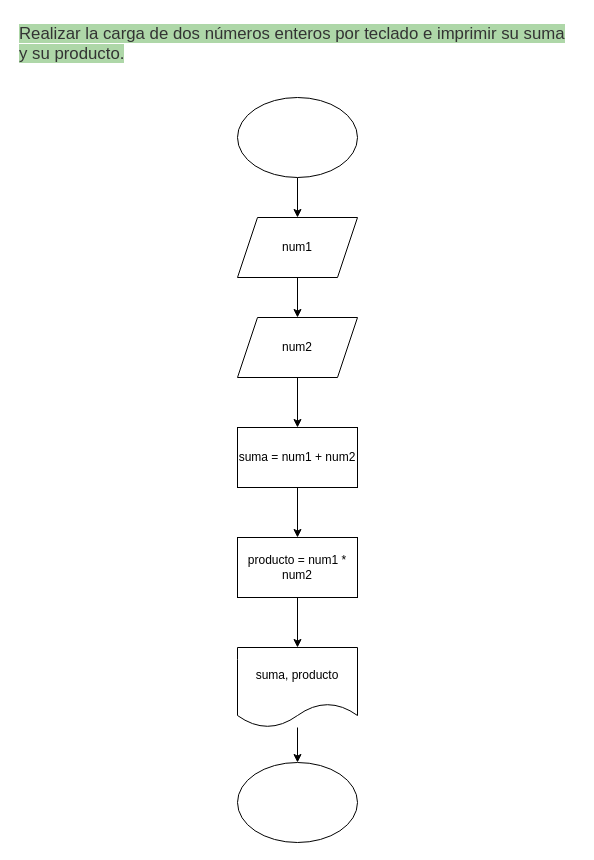
The diagram is 594 pixels wide and 860 high, and some of its shapes have lost their labels. Here are the shapes that lost their labels. From the top down, the box of each, then its label:
(236, 96, 358, 178): Inicio
(236, 762, 358, 842): Fin
